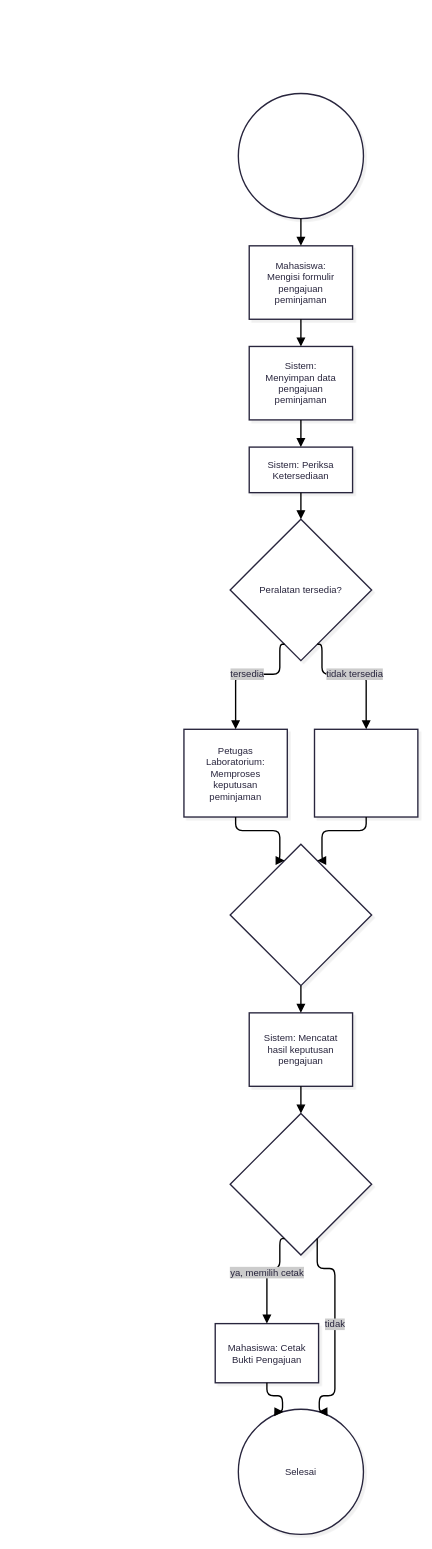
Image size: 432x1549. Some labels were removed from this diagram. Here are the shapes that lost their labels. From the top down, the centre of each, then its label:
the point at 302,157: Mulai
the point at 367,774: Mahasiswa: Menerima pemberitahuan pengajuan tidak terpenuhi
the point at 302,916: Merge
the point at 302,1185: Mahasiswa memilih cetak bukti?
